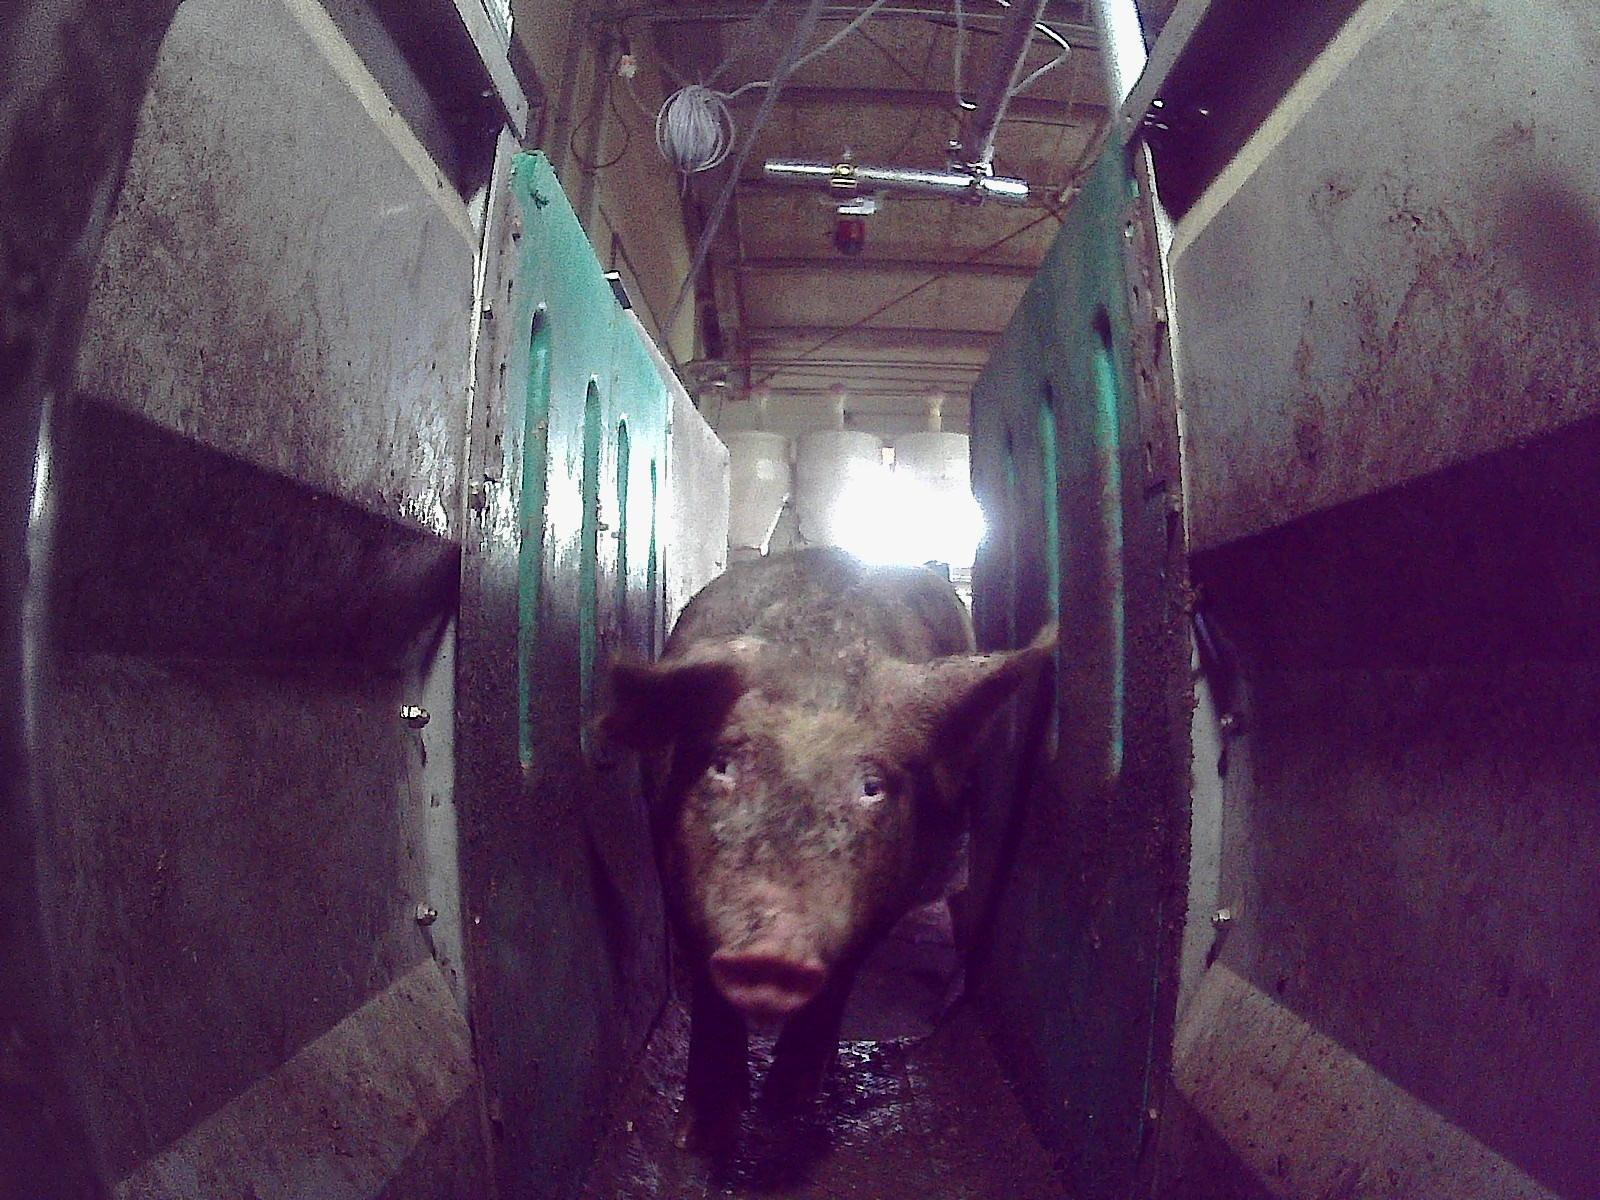Face: (669, 670, 912, 1011)
